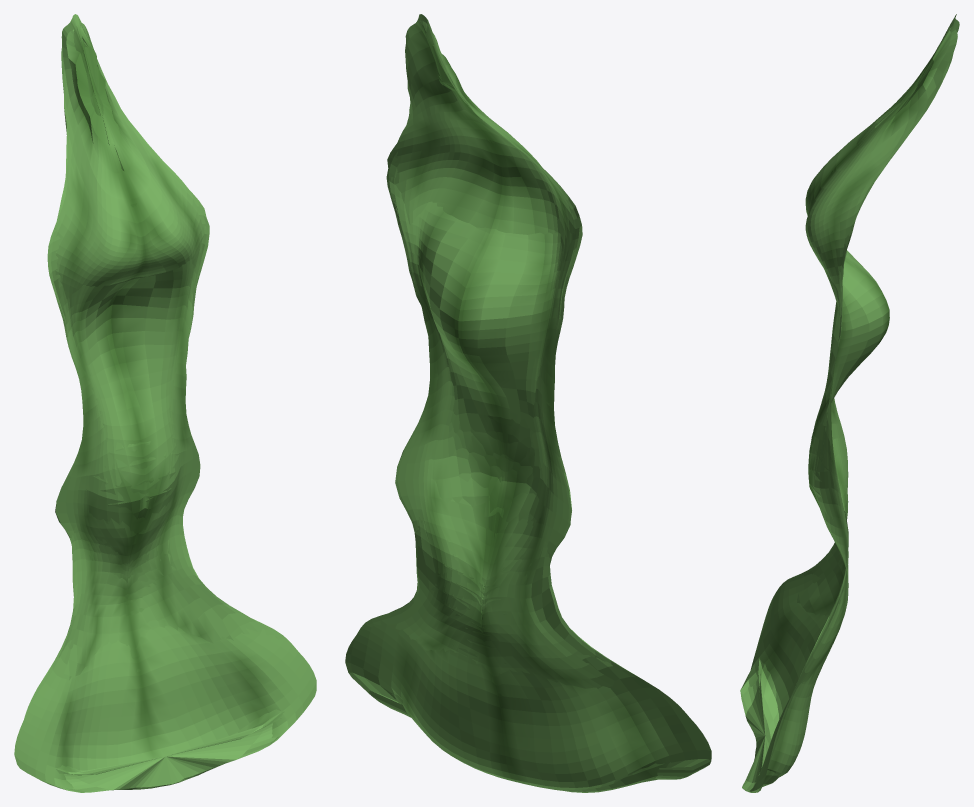
The model's file is Grass.fbx.
3 views of the same model, side by side, from view 1: azimuth 30°, elevation 25°; view 2: azimuth 150°, elevation 25°; view 3: azimuth 270°, elevation 25° (orthographic). The views are drawn at different scales.
Visible parts, largest first — view 1: mesh_0; view 2: mesh_0; view 3: mesh_0.
Boxes of the visible parts, box(x1,y1,x2,y2) form: mesh_0: box(14, 14, 316, 792); mesh_0: box(345, 14, 711, 792); mesh_0: box(740, 14, 959, 792).
Bounding box in the file's own units: 1166 × 2588 × 687.
